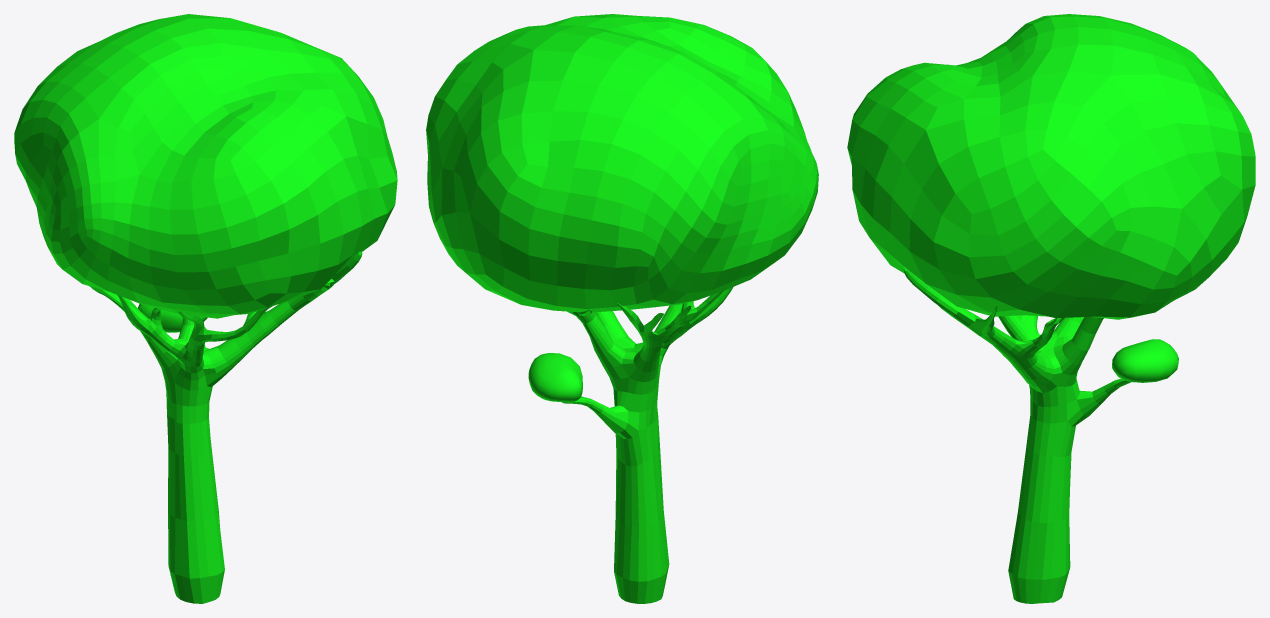
File: Tree_low.FBX
3 views of the same model, side by side, from view 1: azimuth 30°, elevation 25°; view 2: azimuth 150°, elevation 25°; view 3: azimuth 270°, elevation 25° (orthographic). The views are drawn at different scales.
Visible parts, largest first — view 1: Canopy_low, Tree_low, Branch_low; view 2: Canopy_low, Tree_low, Branch_low; view 3: Canopy_low, Tree_low, Branch_low.
Boxes of the visible parts, x1,y1,x2,y2 form: Canopy_low: [14, 14, 397, 318]; Tree_low: [89, 251, 362, 603]; Branch_low: [138, 303, 207, 332]; Canopy_low: [426, 14, 818, 312]; Tree_low: [562, 287, 733, 603]; Branch_low: [528, 353, 582, 402]; Canopy_low: [847, 14, 1255, 319]; Tree_low: [903, 267, 1131, 603]; Branch_low: [1112, 339, 1178, 382].
Size of the model in its own units: 88.43 by 140 by 90.96.
